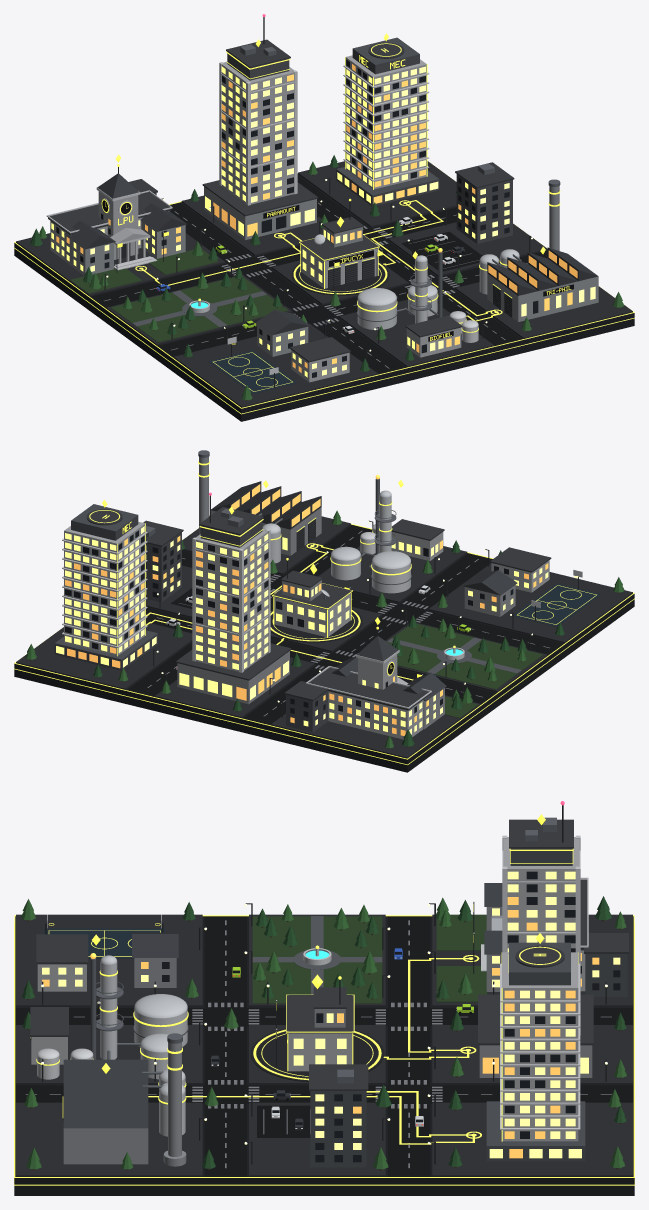
Rendered from career-city.glb.
The picture shows the model from 3 angles, top to bottom: view 1: azimuth 30°, elevation 25°; view 2: azimuth 150°, elevation 25°; view 3: azimuth 270°, elevation 25°; orthographic projection. The views are drawn at different scales.
Parts seen in each view (by area): view 1: Blocks, LM2_Paramount_Life, Roads, LM4_MEC_Building, Fillers, LM1_LPU_Cavite, Ground, LM5_TriPhil_Site, LM6_Cavite_Biofuel, LM3_Lenovo_IPVCYX, Park, Trees (+2 smaller); view 2: Blocks, LM2_Paramount_Life, LM4_MEC_Building, Roads, Ground, Fillers, LM1_LPU_Cavite, LM6_Cavite_Biofuel, LM3_Lenovo_IPVCYX, LM5_TriPhil_Site, Park, Trees (+3 smaller); view 3: Blocks, Roads, LM4_MEC_Building, Ground, Fillers, LM2_Paramount_Life, LM5_TriPhil_Site, LM6_Cavite_Biofuel, Park, Trees, LM3_Lenovo_IPVCYX, LM1_LPU_Cavite (+3 smaller).
Part boxes in pixels (bbox=[...]): Blocks: bbox=[16, 161, 632, 407]; LM2_Paramount_Life: bbox=[202, 14, 318, 239]; Roads: bbox=[90, 175, 547, 374]; LM4_MEC_Building: bbox=[336, 37, 439, 206]; Fillers: bbox=[208, 162, 514, 393]; LM1_LPU_Cavite: bbox=[46, 164, 218, 293]; Ground: bbox=[14, 162, 634, 421]; LM5_TriPhil_Site: bbox=[479, 179, 598, 321]; LM6_Cavite_Biofuel: bbox=[357, 248, 478, 357]; LM3_Lenovo_IPVCYX: bbox=[291, 198, 389, 295]; Park: bbox=[110, 277, 288, 342]; Trees: bbox=[30, 155, 624, 401]; Blocks: bbox=[16, 516, 632, 758]; LM2_Paramount_Life: bbox=[176, 492, 291, 704]; LM4_MEC_Building: bbox=[54, 504, 157, 670]; Roads: bbox=[127, 525, 563, 724]; Ground: bbox=[14, 524, 634, 772]; Fillers: bbox=[143, 520, 601, 626]; LM1_LPU_Cavite: bbox=[306, 626, 478, 739]; LM6_Cavite_Biofuel: bbox=[330, 475, 444, 593]; LM3_Lenovo_IPVCYX: bbox=[270, 558, 362, 642]; LM5_TriPhil_Site: bbox=[198, 450, 321, 563]; Park: bbox=[387, 623, 543, 689]; Trees: bbox=[25, 510, 624, 748]; Blocks: bbox=[16, 914, 632, 1176]; Roads: bbox=[16, 916, 632, 1176]; LM4_MEC_Building: bbox=[486, 942, 585, 1161]; Ground: bbox=[14, 915, 634, 1195]; Fillers: bbox=[36, 914, 368, 1167]; LM2_Paramount_Life: bbox=[478, 801, 593, 1077]; LM5_TriPhil_Site: bbox=[62, 1033, 186, 1166]; LM6_Cavite_Biofuel: bbox=[30, 953, 188, 1079]; Park: bbox=[252, 916, 382, 1003]; Trees: bbox=[20, 896, 626, 1170]; LM3_Lenovo_IPVCYX: bbox=[250, 976, 384, 1081]; LM1_LPU_Cavite: bbox=[436, 877, 588, 1002].
Size of the model in its own units: 44.06 by 22.04 by 44.06.
